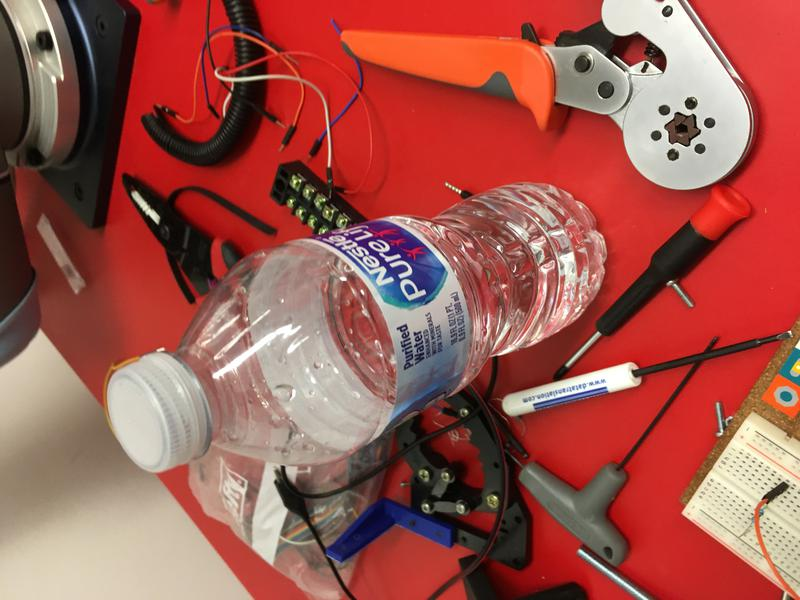bottle: (105, 180, 607, 477)
